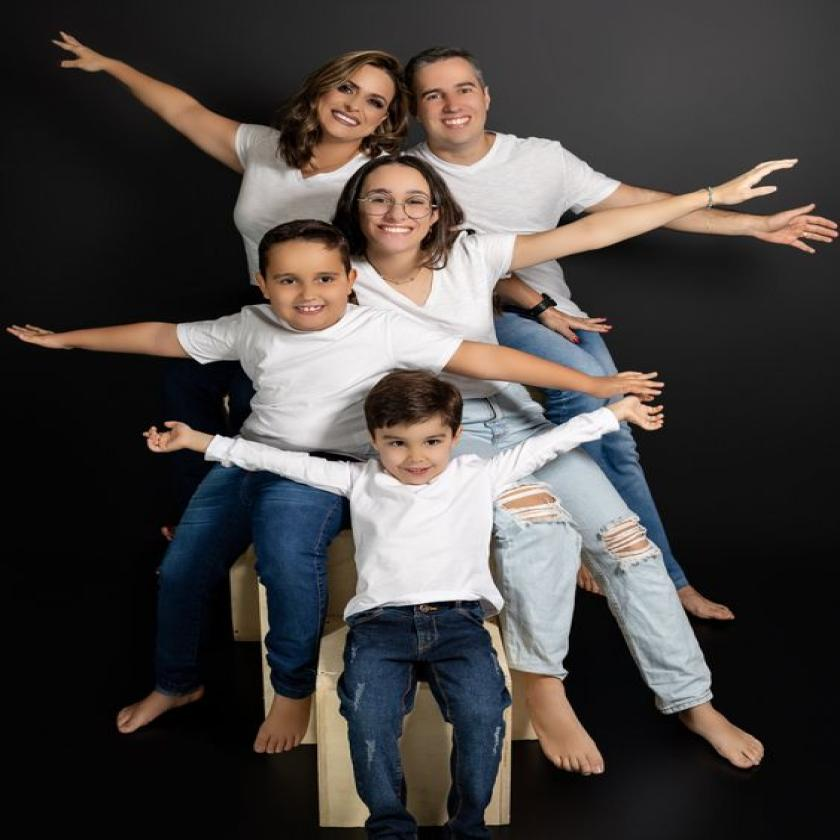Sin_casco: (344, 152, 456, 273), (361, 365, 469, 489), (295, 44, 405, 159), (255, 222, 360, 336), (400, 45, 500, 149)
